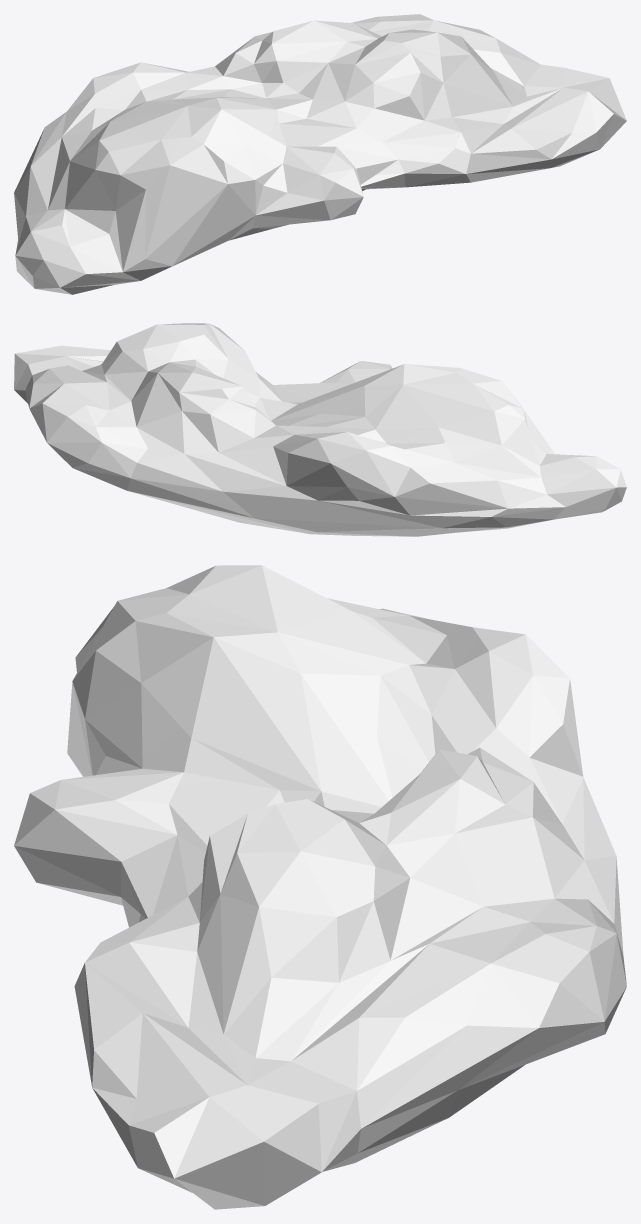
Rendered from kingdom_SM_Generic_Cloud_03.gltf.
3 renders of one model, top to bottom at view 1: azimuth 30°, elevation 25°; view 2: azimuth 150°, elevation 25°; view 3: azimuth 270°, elevation 25°, orthographic. The views are drawn at different scales.
Visible parts, largest first — view 1: SM_Generic_Cloud_03; view 2: SM_Generic_Cloud_03; view 3: SM_Generic_Cloud_03.
Boxes of the visible parts, left/top/right/bottom form: SM_Generic_Cloud_03: left=14, top=14, right=626, bottom=294; SM_Generic_Cloud_03: left=14, top=323, right=626, bottom=536; SM_Generic_Cloud_03: left=14, top=565, right=626, bottom=1209.
Bounding box in the file's own units: 7.18 × 1.54 × 3.34.
1 material, 1 textured.
